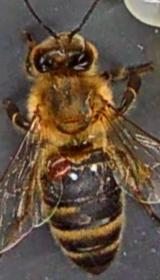varroa_mite: (40, 150, 81, 186)
